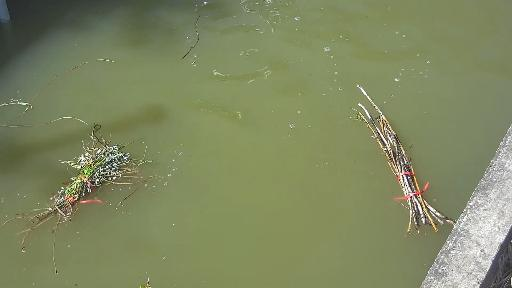twig: (3, 116, 165, 277), (348, 78, 462, 241), (186, 8, 203, 72)
